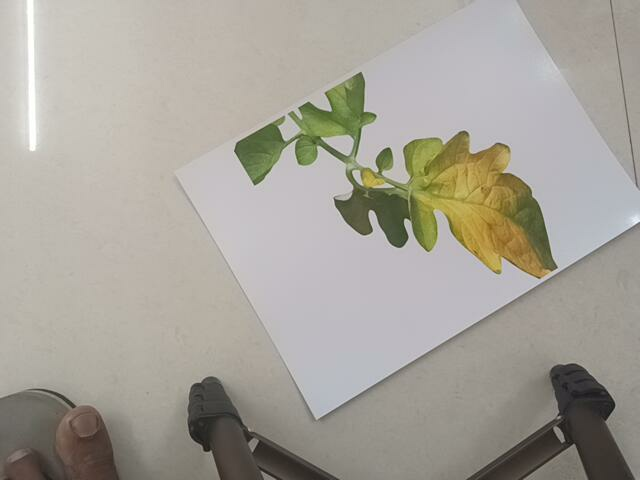Tomamto_Yellow_Disease: (237, 72, 567, 283)
